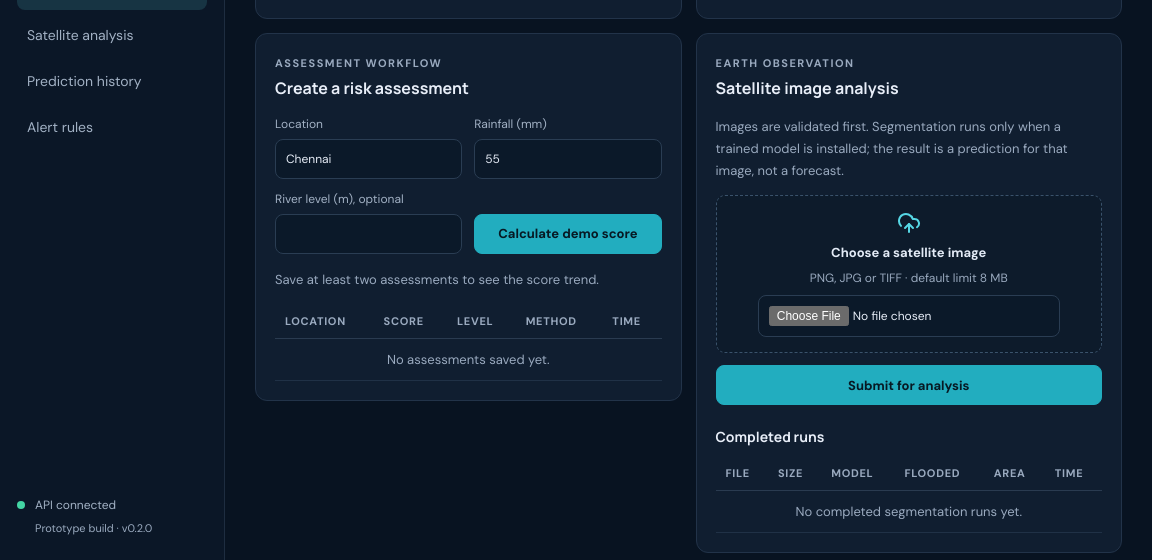
risk assessments › shows API errors instead of failing silently
(page scrolled)
Click the button "Calculate demo score" at (568, 234), box [474, 214, 662, 254]
(page scrolled)
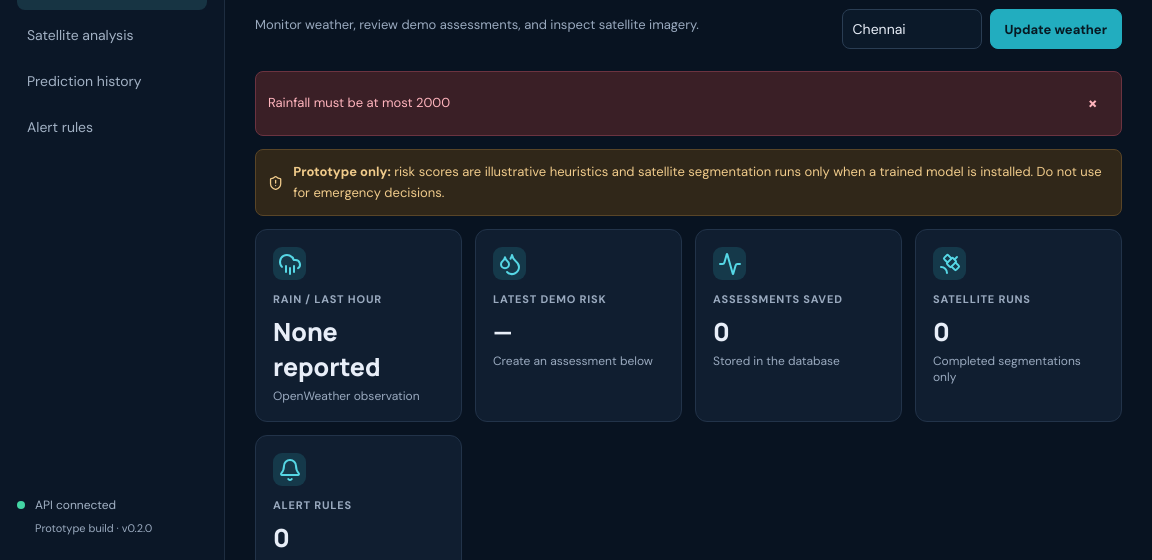
Result: the message "Rainfall must be at most 2000 ×" is shown at [255, 71, 1122, 136]
